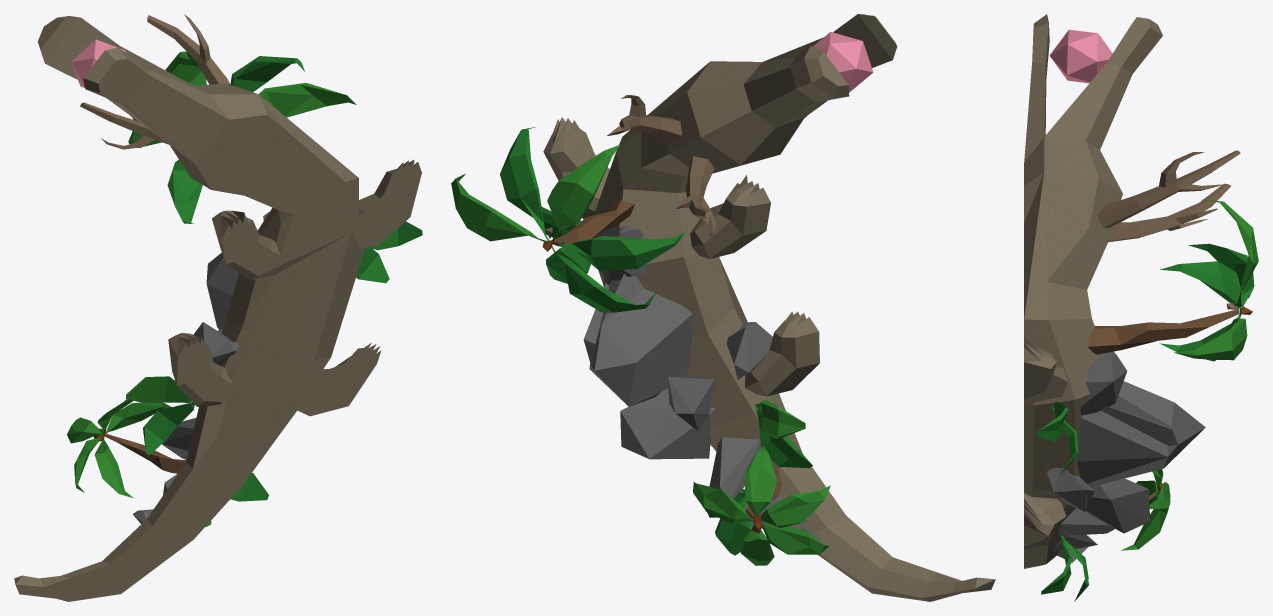
Rendered from green_symbol_corcodile.FBX.
The picture shows the model from 3 angles, left to right: view 1: azimuth 30°, elevation 25°; view 2: azimuth 150°, elevation 25°; view 3: azimuth 270°, elevation 25°; orthographic projection. The views are drawn at different scales.
Visible parts, largest first — view 1: crocodile; view 2: crocodile; view 3: crocodile.
Part boxes in pixels (x1,y1,x2,y2): crocodile: (14, 14, 422, 601); crocodile: (451, 14, 995, 601); crocodile: (1024, 14, 1258, 601).
Size of the model in its own units: 1020 by 1256 by 484.
